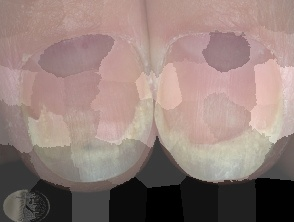Nail_psoriasis: (0, 19, 156, 187), (150, 16, 294, 182)
